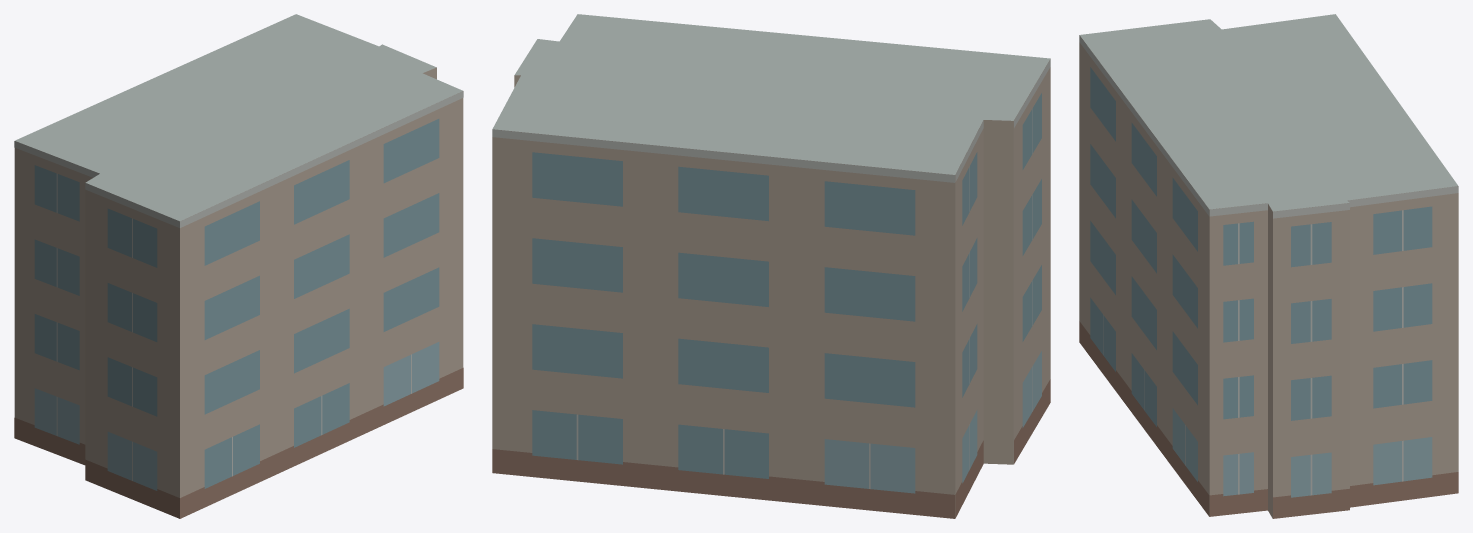
The model's file is survey-upis-33014759.glb.
The picture shows the model from 3 angles, left to right: view 1: azimuth 30°, elevation 25°; view 2: azimuth 150°, elevation 25°; view 3: azimuth 270°, elevation 25°; orthographic projection. The views are drawn at different scales.
Parts seen in each view (by area): view 1: survey-upis-33014759.tmp; view 2: survey-upis-33014759.tmp; view 3: survey-upis-33014759.tmp.
Boxes of the visible parts, box(x1,y1,x2,y2) form: survey-upis-33014759.tmp: box(14, 14, 463, 518); survey-upis-33014759.tmp: box(492, 14, 1050, 518); survey-upis-33014759.tmp: box(1079, 14, 1458, 518).
Bounding box in the file's own units: 14.62 × 10.6 × 11.86.
